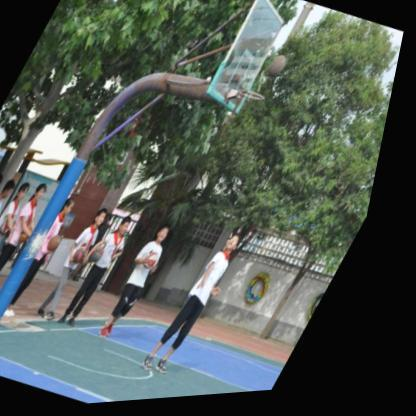basketball: (267, 56, 293, 85)
